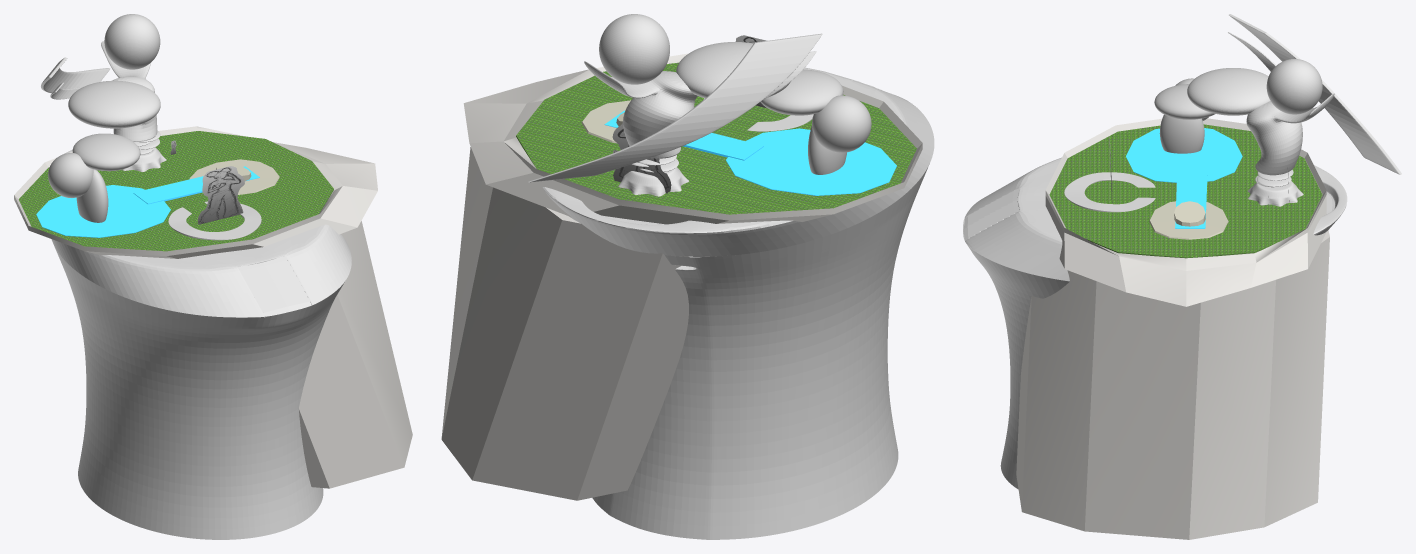
The model's file is part_1_platform 1.fbx.
3 views of the same model, side by side, from view 1: azimuth 30°, elevation 25°; view 2: azimuth 150°, elevation 25°; view 3: azimuth 270°, elevation 25° (orthographic). The views are drawn at different scales.
Parts seen in each view (by area): view 1: Cylinder, PolyShape, Cylinder__2_, Cylinder.001, Cylinder__1_, Cylinder__4_, Sphere, Cylinder.003, Sphere.001, Sphere__4_, Tst, Sphere__3_ (+7 smaller); view 2: Cylinder, PolyShape, Cylinder__2_, Cylinder__1_, Cylinder.001, Plane, Cylinder__4_, Cylinder.008, Sphere.001, Sphere__3_, Sphere, Sphere__4_ (+6 smaller); view 3: PolyShape, Cylinder__2_, Cylinder__1_, Cylinder.001, Cylinder, Cylinder__4_, Cylinder.008, Sphere, Plane, Sphere.001, Cylinder.002, Cylinder__3_ (+6 smaller).
Boxes of the visible parts, x1,y1,x2,y2 form: Cylinder: (54,247,344,539); PolyShape: (232,221,412,488); Cylinder__2_: (19,131,333,251); Cylinder.001: (51,149,351,317); Cylinder__1_: (14,126,377,258); Cylinder__4_: (36,185,170,237); Sphere: (68,80,160,128); Cylinder.003: (238,256,311,316); Sphere.001: (104,14,160,69); Sphere__4_: (72,133,140,171); Tst: (197,166,244,224); Sphere__3_: (48,153,93,197); Cylinder: (592,95,929,539); PolyShape: (441,147,716,500); Cylinder__2_: (516,62,916,214); Cylinder__1_: (463,53,922,224); Cylinder.001: (542,68,934,256); Plane: (528,33,822,182); Cylinder__4_: (726,128,896,195); Cylinder.008: (584,61,697,158); Sphere.001: (599,14,669,84); Sphere__3_: (812,95,871,152); Sphere: (676,42,790,98); Sphere__4_: (760,69,843,115); PolyShape: (1016,230,1329,539); Cylinder__2_: (1049,124,1322,258); Cylinder__1_: (1045,118,1326,306); Cylinder.001: (963,157,1347,281); Cylinder: (963,203,1069,489); Cylinder__4_: (1126,128,1242,182); Cylinder.008: (1246,93,1334,175); Sphere: (1187,68,1270,115); Plane: (1229,14,1401,174); Sphere.001: (1266,59,1322,114); Cylinder.002: (1064,172,1155,212); Cylinder__3_: (1149,201,1228,239).
Size of the model in its own units: 15584 by 17319 by 16871.
